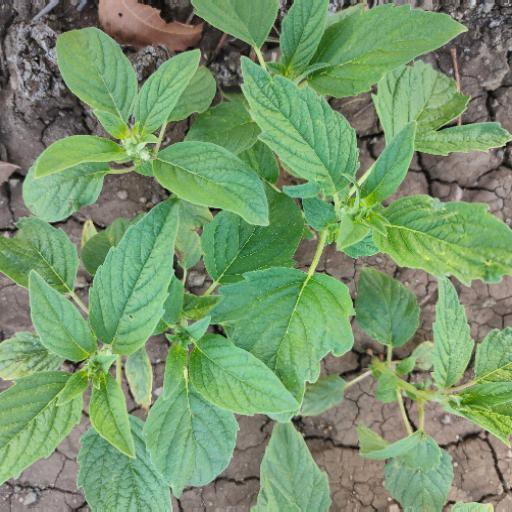crop: (16, 18, 481, 493)
